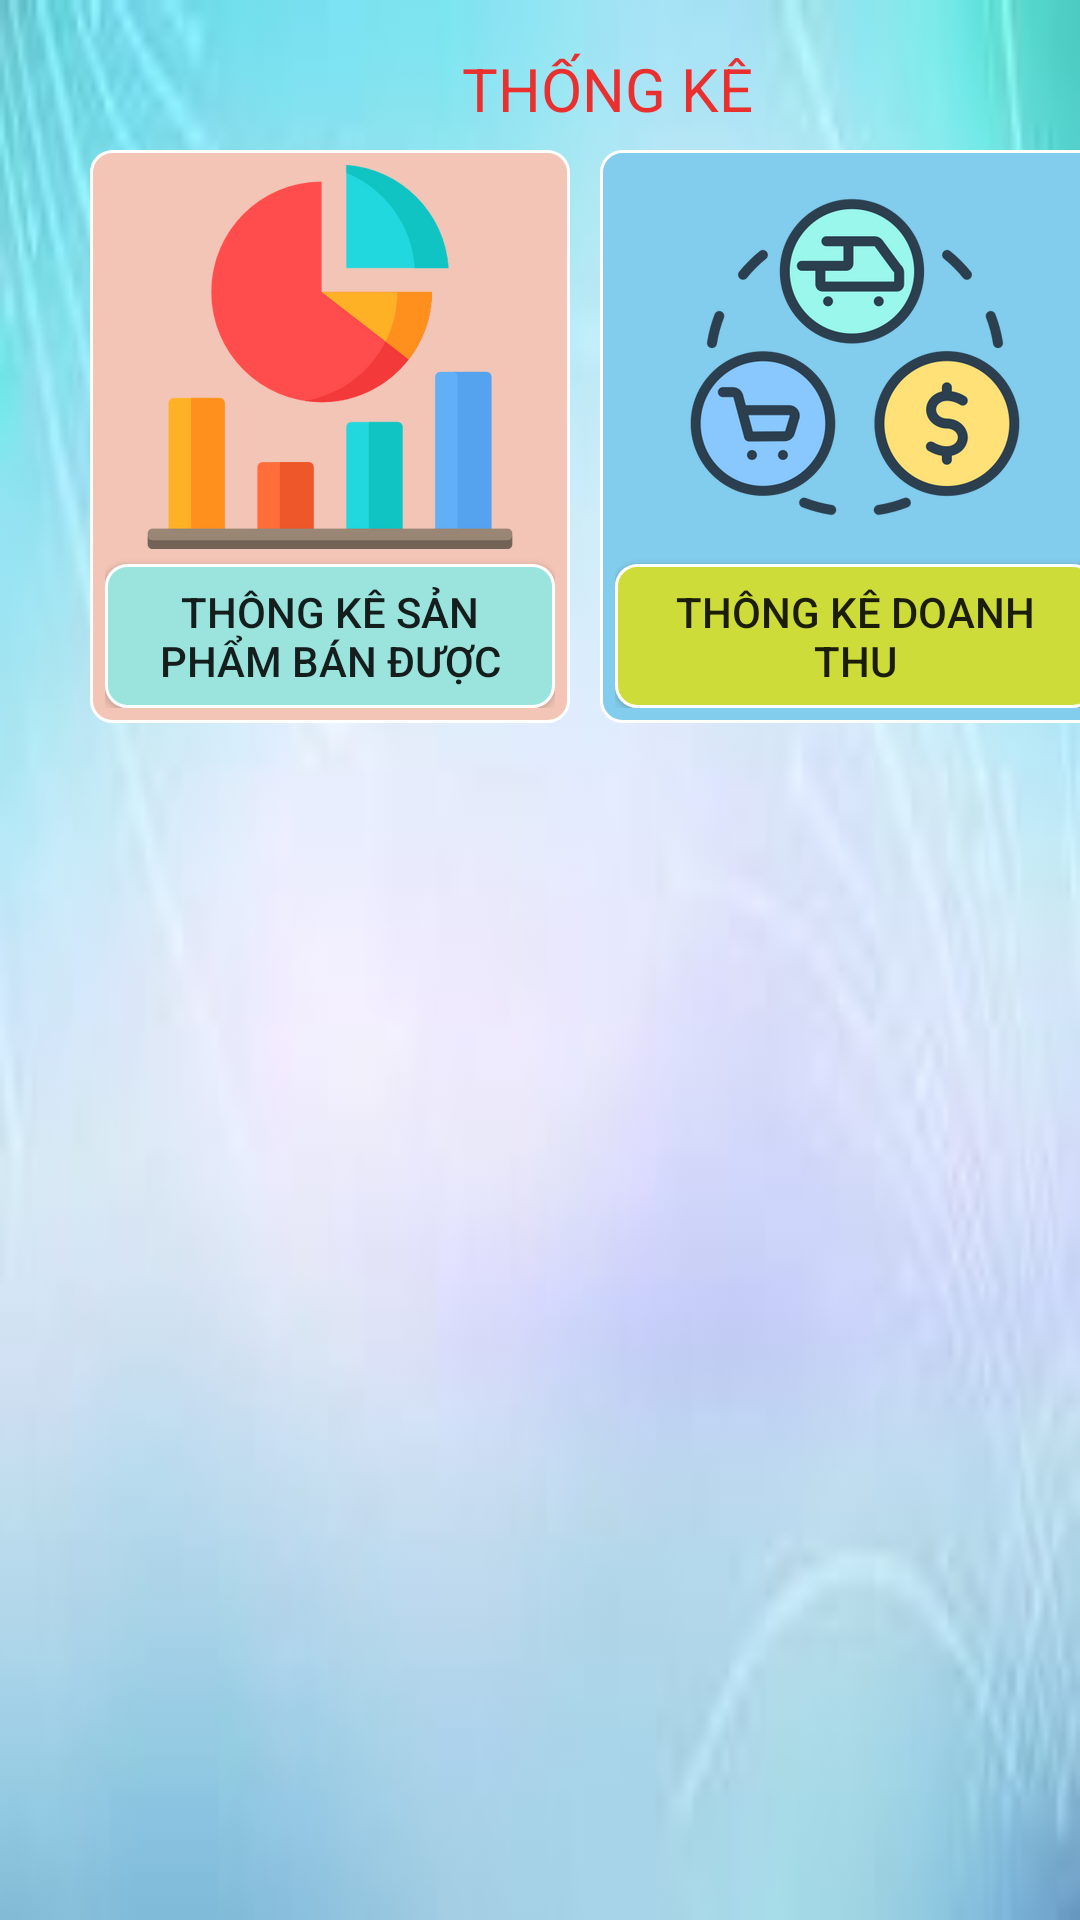

Screen size 1080x1920. Icon name, then its box in pixels as (x1, y1, x2, y2):
business: (690, 199, 1020, 515)
